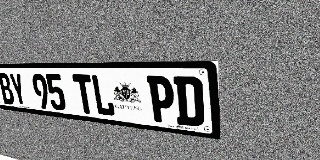5: (45, 74, 67, 111)
9: (31, 74, 52, 109)
B: (0, 73, 16, 105)
D: (173, 76, 205, 127)
L: (90, 75, 116, 117)
P: (147, 76, 176, 124)
T: (72, 74, 96, 115)
Y: (8, 73, 28, 107)
